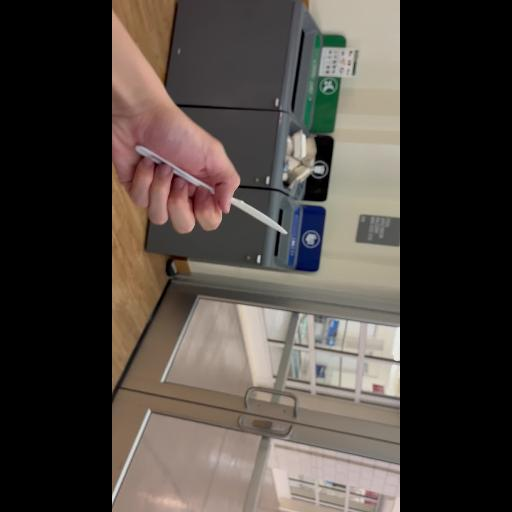utensil: (117, 131, 311, 263)
